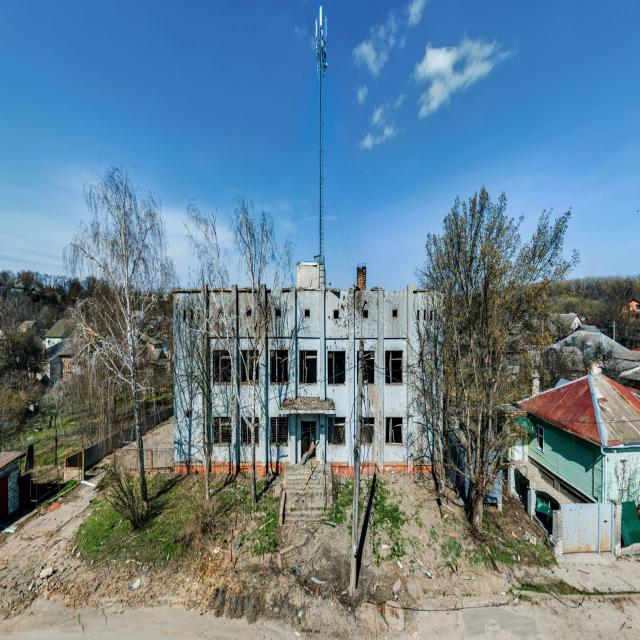broken_window: (239, 347, 259, 385), (212, 349, 232, 384), (298, 348, 317, 384), (270, 348, 288, 384), (327, 350, 345, 385), (385, 349, 402, 385), (385, 416, 403, 446), (328, 416, 346, 446), (360, 350, 374, 384)
building: (171, 260, 446, 479), (503, 370, 639, 540)
damaged_roof: (513, 370, 639, 450)
